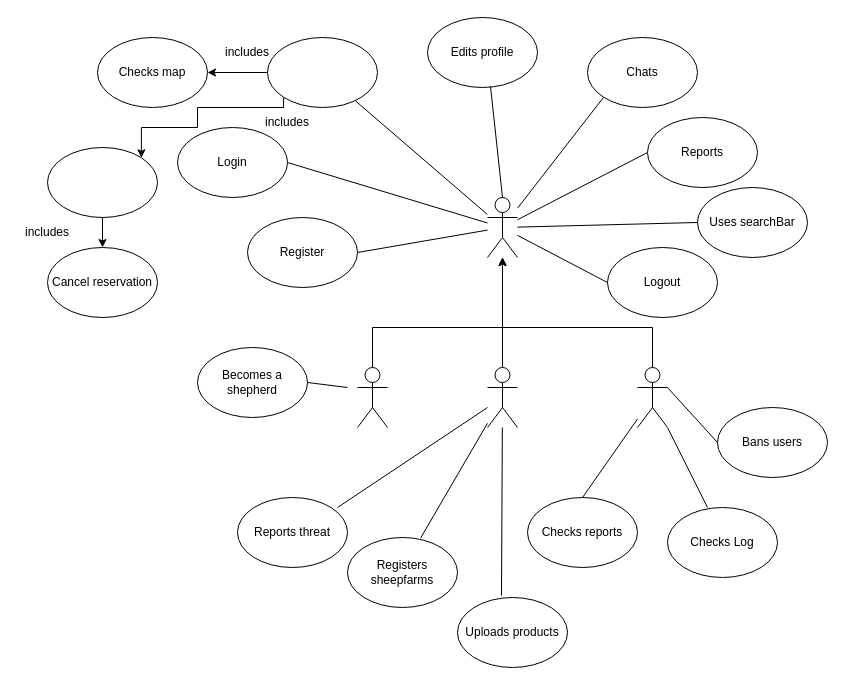
This 845x685 diagram has some shape labels left out. Here are the shapes that lost their labels. From the top down, the centre of each, then its label:
At (322,72): "Views Home Page".
At (102,182): "Reserves a product".
At (502,227): "User".
At (372,397): "Casual".
At (502,397): "Shepherd".
At (652,397): "Moderator".
